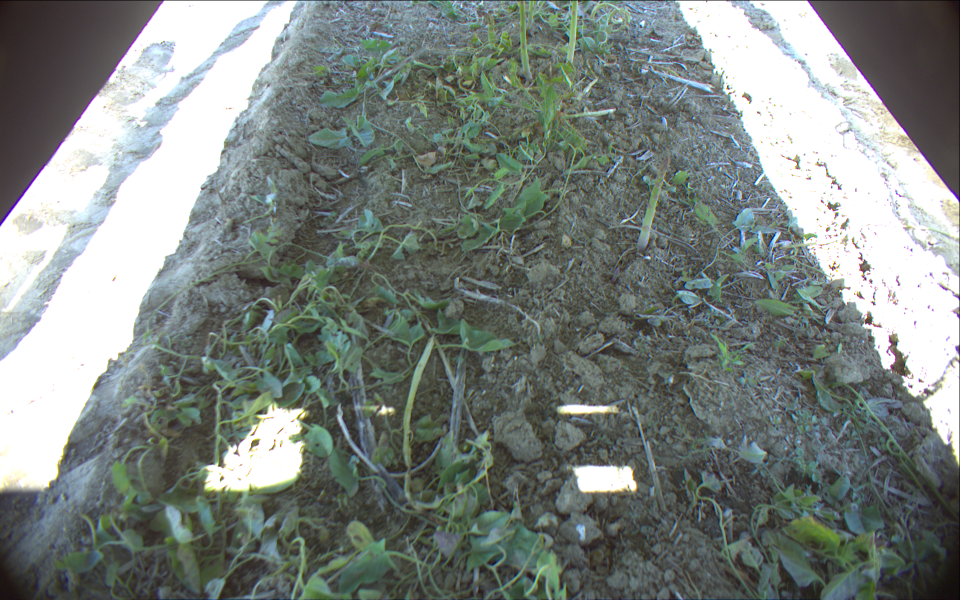aspa: (631, 150, 670, 256), (511, 1, 537, 85), (564, 1, 580, 71)
